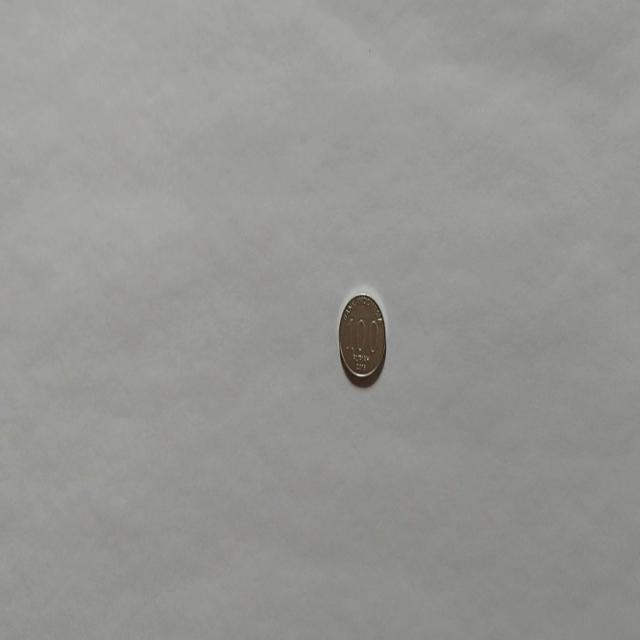seratus rupiah: (338, 291, 387, 385)
